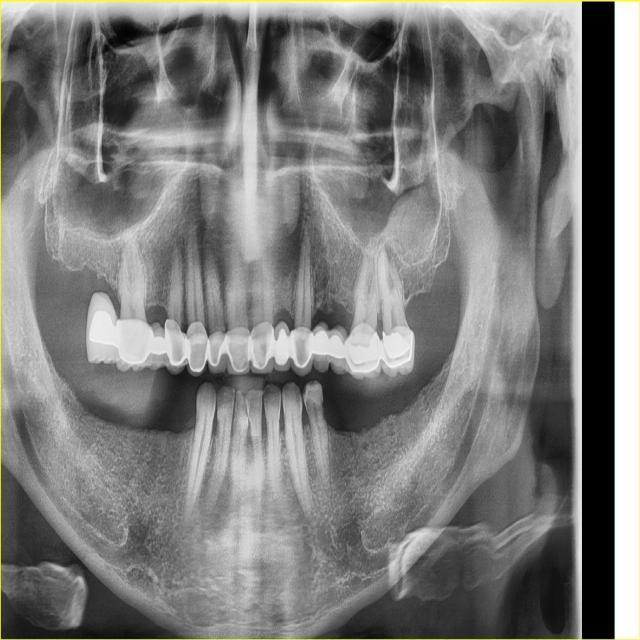NucleOSS Implant: (346, 333, 386, 368), (381, 329, 410, 358)
Sterngold Implant: (303, 396, 318, 423), (317, 396, 325, 421)
Zimmer Implant: (83, 291, 121, 367), (342, 318, 382, 382), (116, 315, 154, 374), (378, 325, 416, 378), (224, 325, 252, 373), (165, 318, 187, 376), (289, 325, 314, 376), (325, 322, 348, 375), (250, 322, 273, 374), (186, 320, 208, 372), (273, 317, 295, 369), (147, 324, 169, 372), (313, 322, 329, 372), (208, 332, 226, 375)
